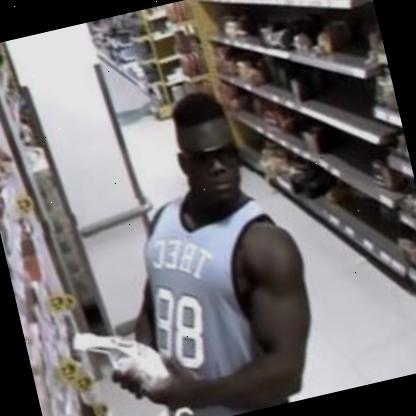person: (52, 73, 339, 416)
